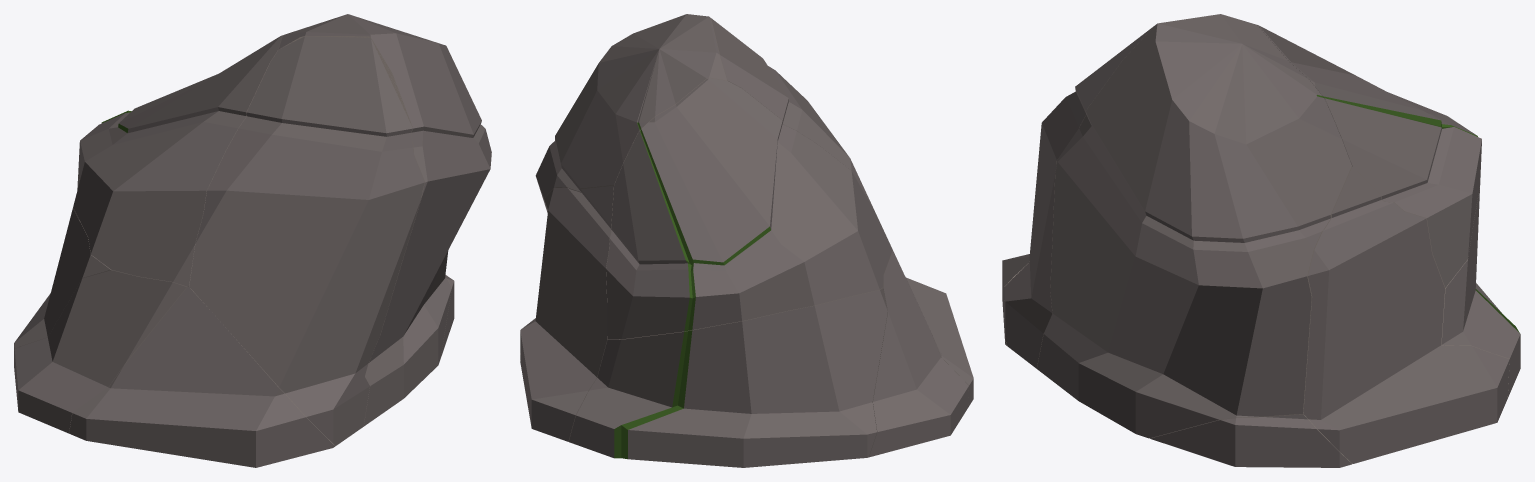
File: roccia3_fractured.fbx
3 views of the same model, side by side, from view 1: azimuth 30°, elevation 25°; view 2: azimuth 150°, elevation 25°; view 3: azimuth 270°, elevation 25° (orthographic). The views are drawn at different scales.
Visible parts, largest first — view 1: roccia3_cell.002, roccia3_cell.005, roccia3_cell.003, roccia3_cell.008, roccia3_cell.007, roccia3_cell.001; view 2: roccia3_cell.005, roccia3_cell.001, roccia3_cell.009, roccia3_cell.003, roccia3_cell.007, roccia3_cell.002, roccia3_cell.008; view 3: roccia3_cell.003, roccia3_cell.009, roccia3_cell.005, roccia3_cell.002, roccia3_cell.004, roccia3_cell.001, roccia3_cell.008.
Boxes of the visible parts, x1,y1,x2,y2 form: roccia3_cell.002: (189, 36, 424, 445); roccia3_cell.005: (73, 35, 282, 288); roccia3_cell.003: (278, 14, 491, 426); roccia3_cell.008: (69, 287, 335, 467); roccia3_cell.007: (14, 270, 186, 433); roccia3_cell.001: (14, 173, 111, 367); roccia3_cell.005: (606, 78, 892, 339); roccia3_cell.001: (568, 288, 887, 467); roccia3_cell.009: (520, 185, 613, 441); roccia3_cell.003: (535, 14, 727, 212); roccia3_cell.007: (869, 250, 968, 457); roccia3_cell.002: (711, 18, 873, 209); roccia3_cell.008: (906, 277, 973, 407); roccia3_cell.003: (1037, 14, 1351, 438); roccia3_cell.009: (1303, 166, 1509, 463); roccia3_cell.005: (1256, 24, 1481, 287); roccia3_cell.002: (1004, 26, 1153, 368); roccia3_cell.004: (1150, 414, 1351, 467); roccia3_cell.001: (1441, 187, 1520, 398); roccia3_cell.008: (1002, 251, 1030, 346).
Bounding box in the file's own units: 340 × 247 × 306.
